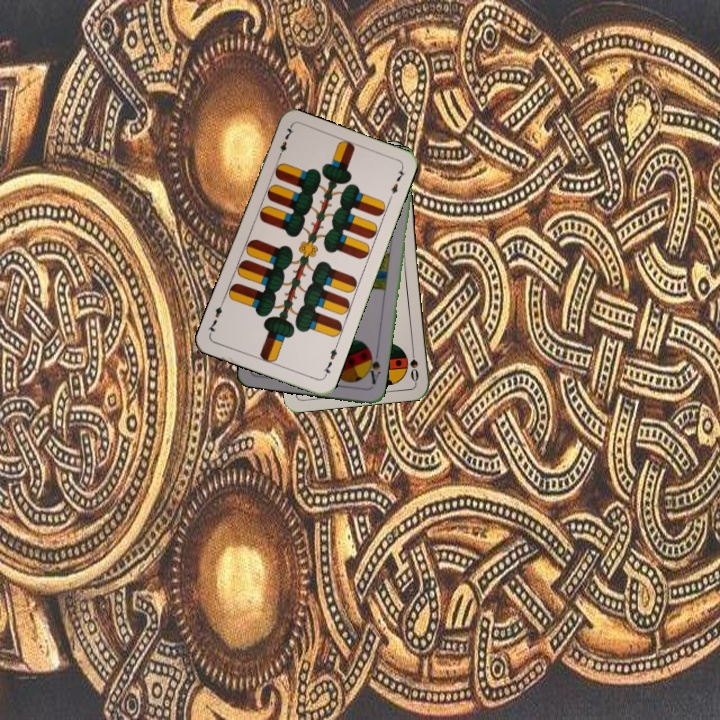E7: (274, 123, 296, 162), (319, 341, 340, 380)
SA: (363, 347, 383, 387)
SO: (406, 343, 421, 384)
